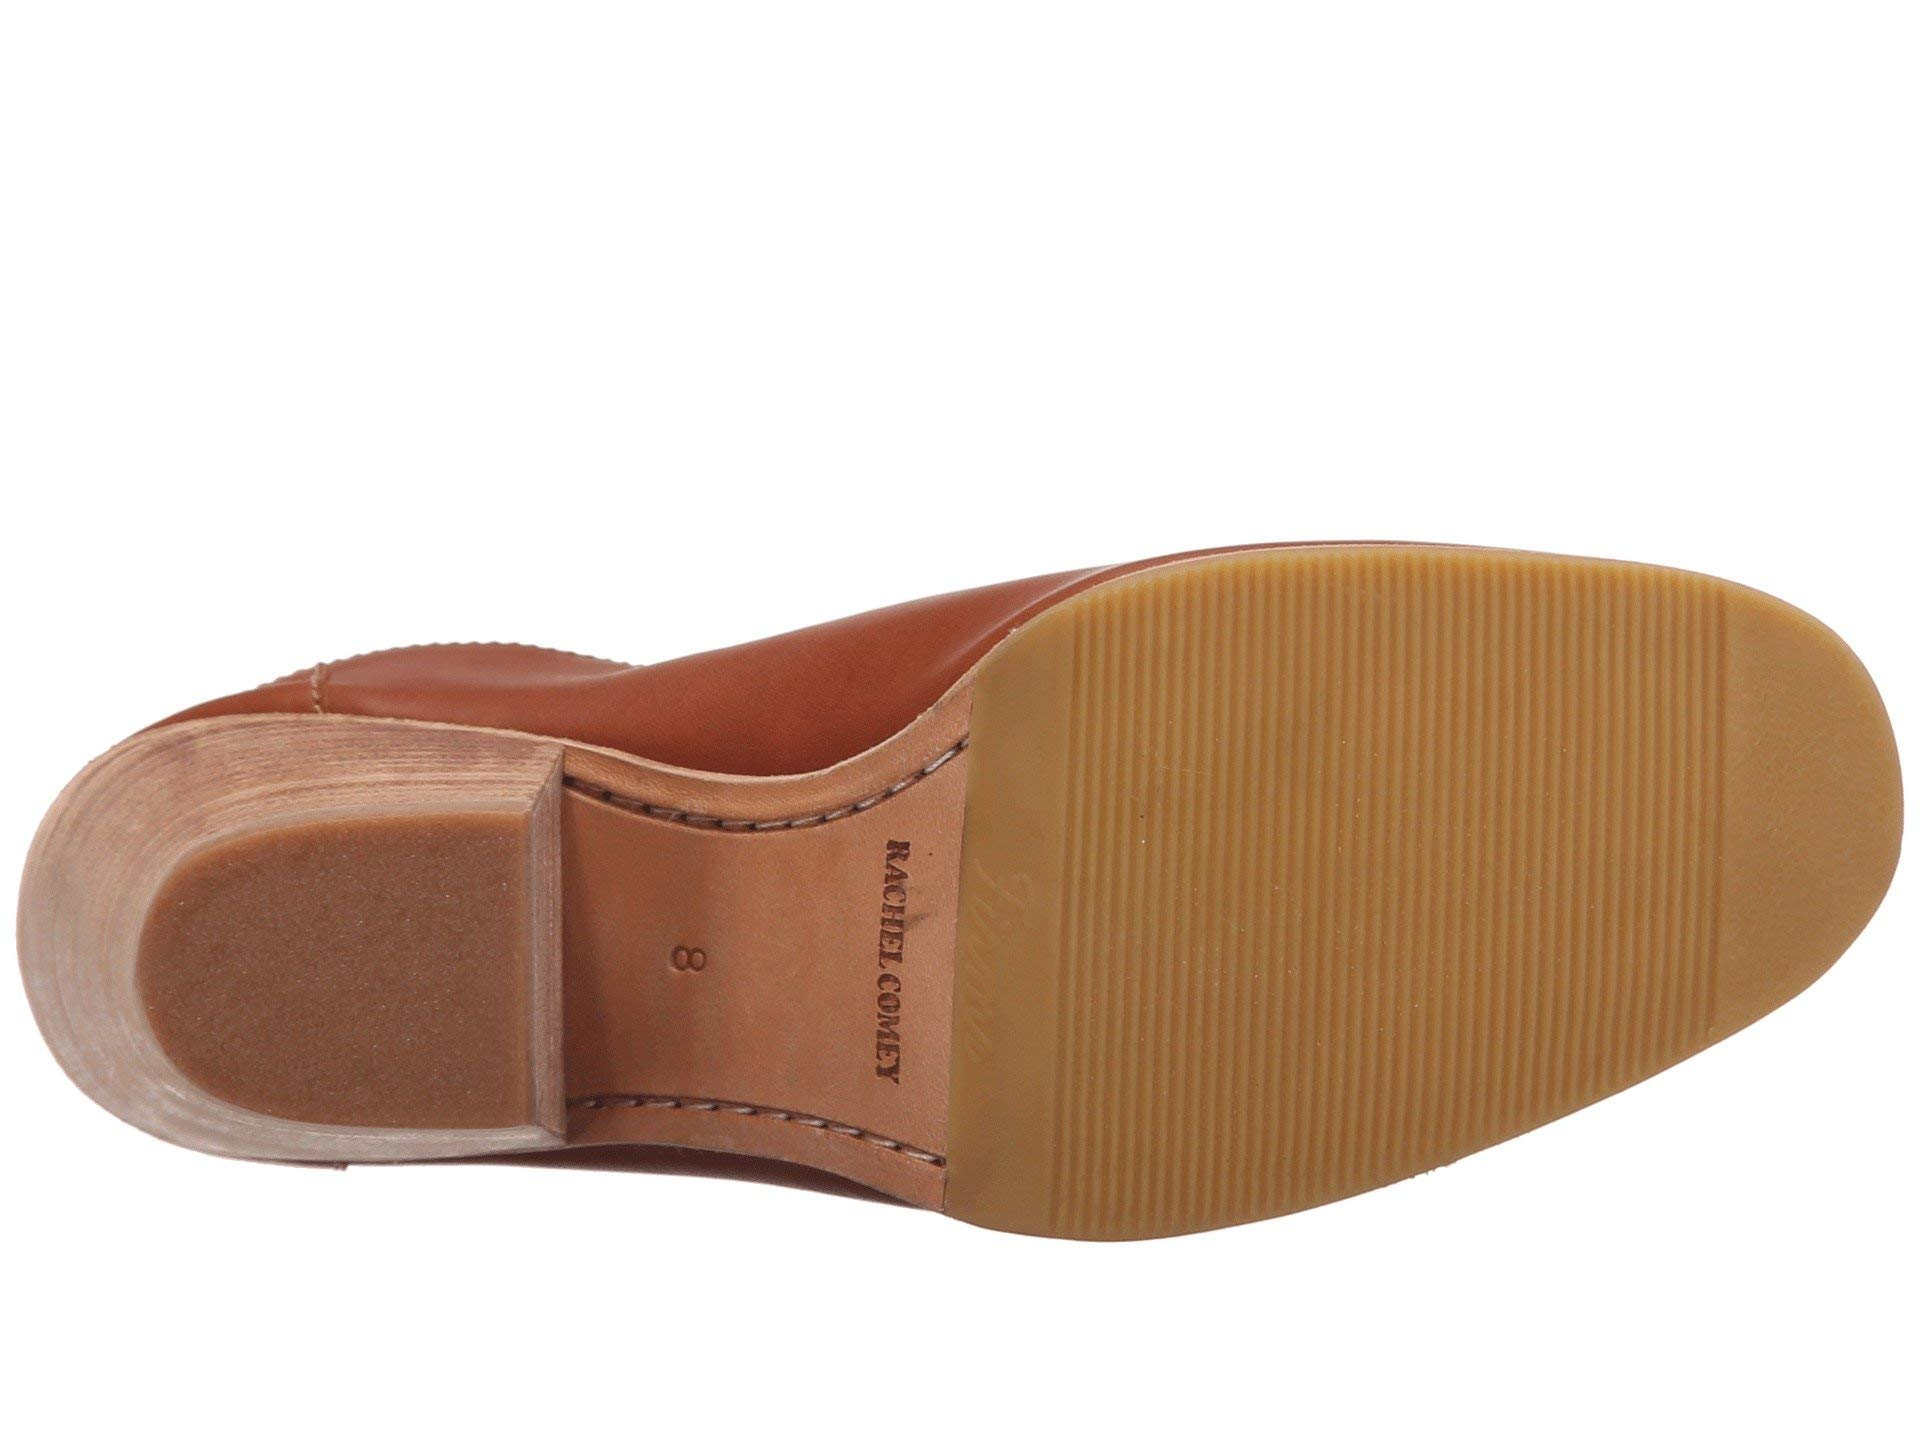line: (1339, 610, 1711, 1021), (1084, 634, 1327, 912)
